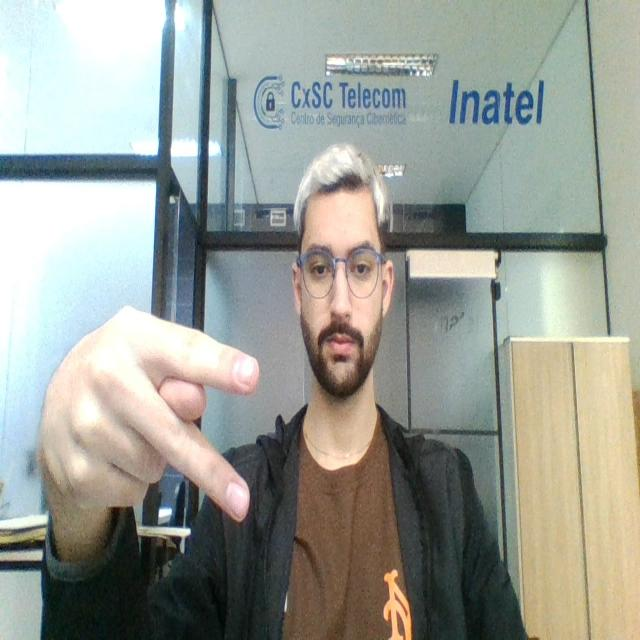P: (33, 300, 262, 546)
